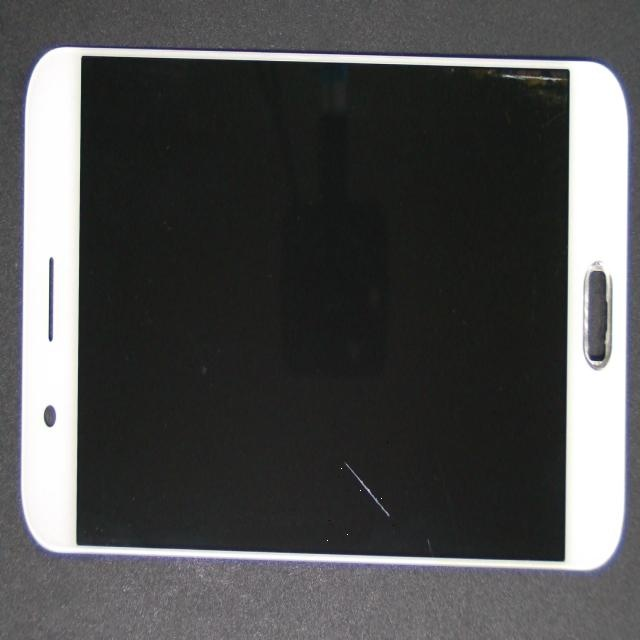scratch: (126, 212, 519, 640)
